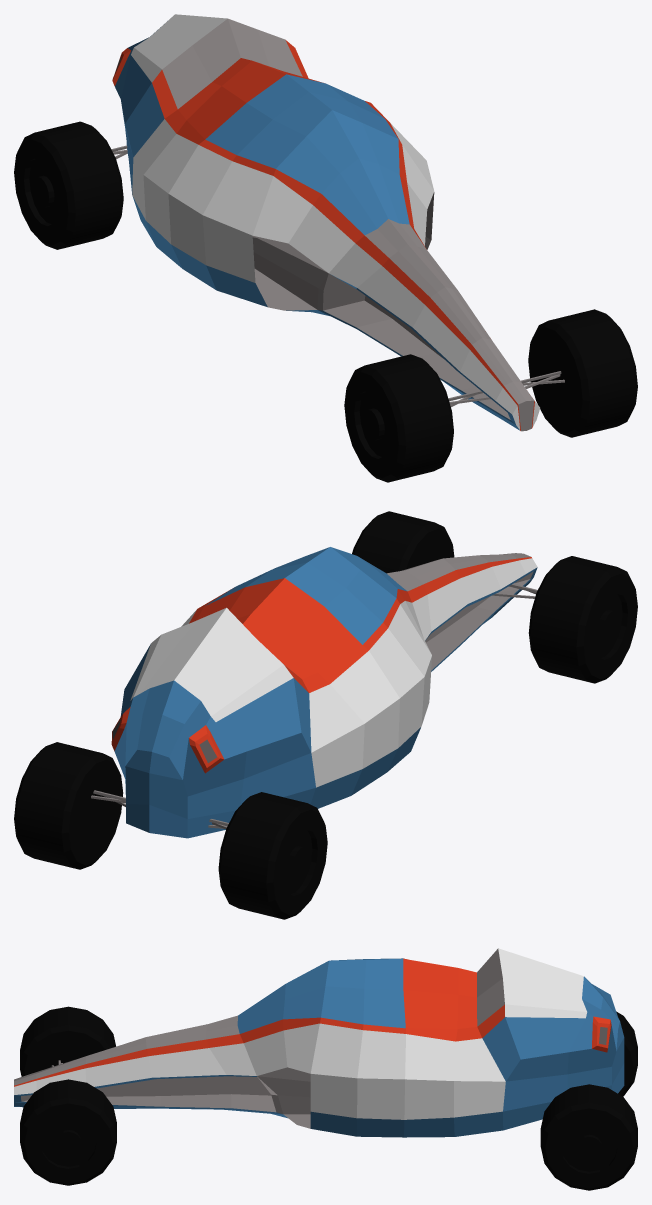
The picture shows the model from 3 angles, top to bottom: view 1: azimuth 30°, elevation 25°; view 2: azimuth 150°, elevation 25°; view 3: azimuth 270°, elevation 25°; orthographic projection. The views are drawn at different scales.
Parts seen in each view (by area): view 1: polySurface38, front_L_tyre.004, front_L_tyre.002, front_L_tyre.001, polySurface30, polySurface35; view 2: polySurface38, front_L_tyre.002, front_L_tyre.004, front_L_tyre.003, polySurface35, front_L_tyre.001, polySurface30; view 3: polySurface38, polySurface37, front_L_tyre.003, front_L_tyre.001, polySurface35, front_L_tyre.002, polySurface30, front_L_tyre.004, polySurface32.
Boxes of the visible parts, x1,y1,x2,y2 form: polySurface38: [111, 14, 564, 431]; front_L_tyre.004: [14, 121, 123, 249]; front_L_tyre.002: [344, 354, 453, 482]; front_L_tyre.001: [528, 309, 637, 437]; polySurface30: [365, 219, 533, 404]; polySurface35: [178, 58, 323, 139]; polySurface38: [91, 547, 537, 838]; front_L_tyre.002: [528, 556, 637, 683]; front_L_tyre.004: [218, 792, 327, 919]; front_L_tyre.003: [14, 742, 123, 869]; polySurface35: [197, 578, 362, 679]; front_L_tyre.001: [352, 511, 454, 573]; polySurface30: [387, 553, 530, 591]; polySurface38: [14, 948, 624, 1136]; polySurface37: [310, 1023, 455, 1137]; front_L_tyre.003: [540, 1084, 637, 1190]; front_L_tyre.001: [20, 1079, 116, 1185]; polySurface35: [403, 958, 477, 1028]; front_L_tyre.002: [20, 1006, 115, 1076]; polySurface30: [14, 1015, 239, 1085]; front_L_tyre.004: [616, 1011, 637, 1096]; polySurface32: [231, 1094, 275, 1112].
Size of the model in its own units: 2.94 by 2.56 by 7.51.
